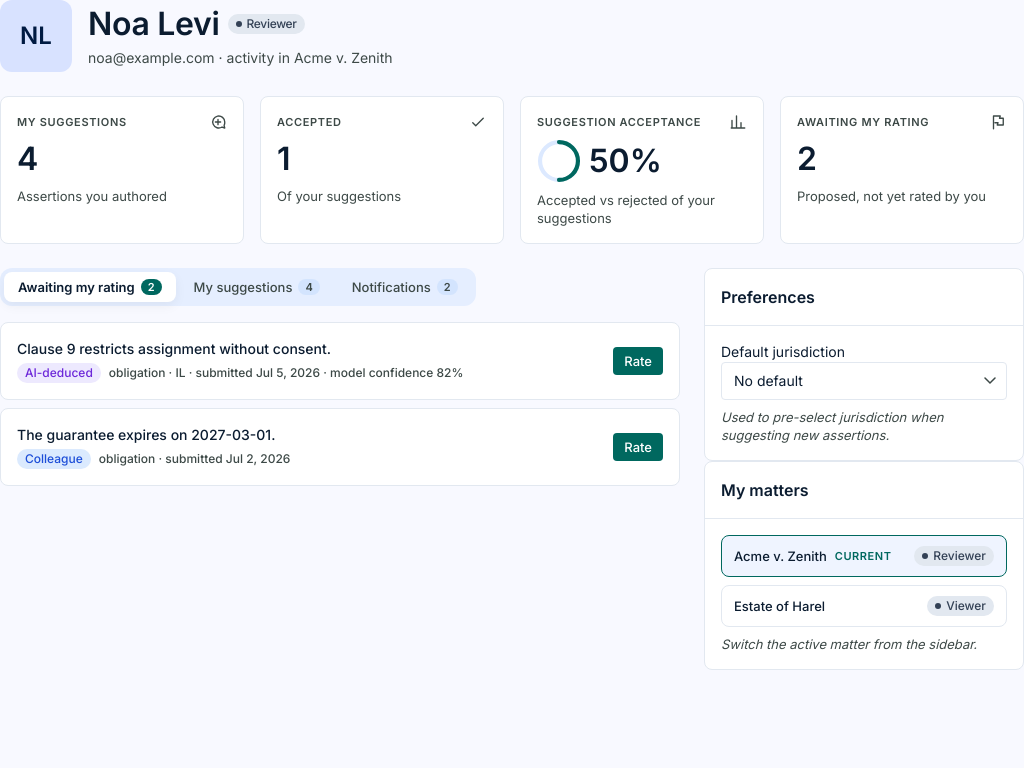
ProfilePage › lists notifications newest first with humanized event types and the reset note
Expected: the text with test id "pf-stat-suggestions" is shown, [17,139,38,178]
Click the tab "Notifications 2" at {"x": 405, "y": 287}, box [338,272,472,302]
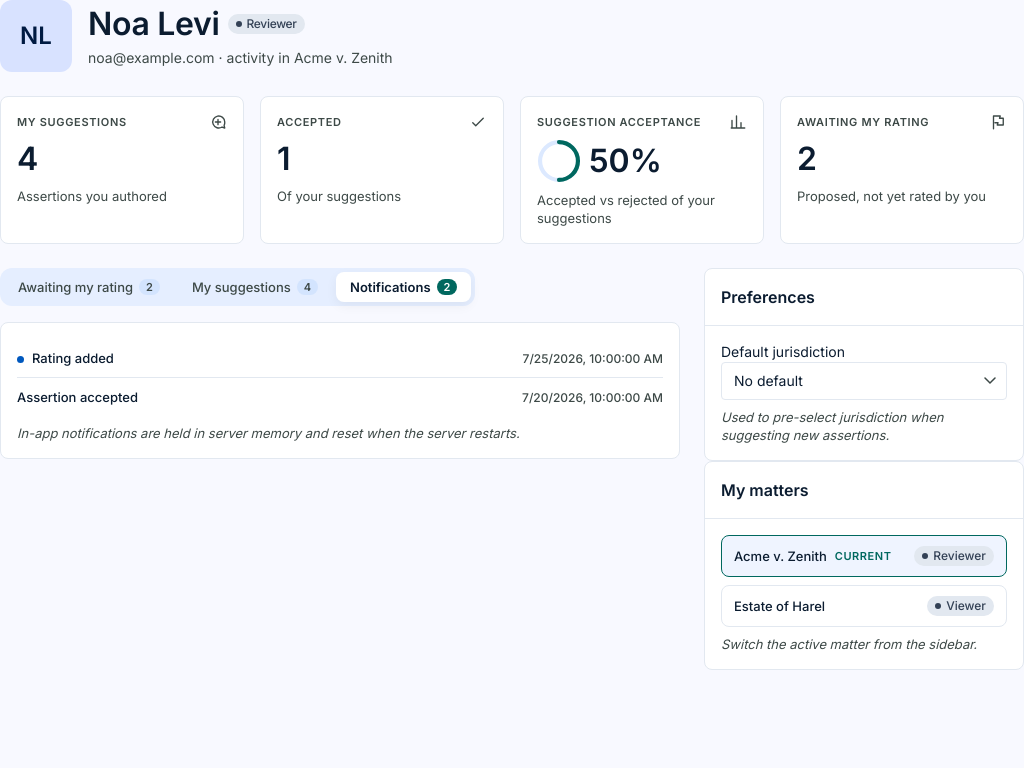
Now the list item "Rating added 7/25/2026, 10:00:00 AM" is shown, box [17,339,663,378]
Now the list item "Assertion accepted 7/20/2026, 10:00:00 AM" is shown, box [17,389,663,405]
Now the text "reset when the server restarts" is shown, box [17,425,520,441]
